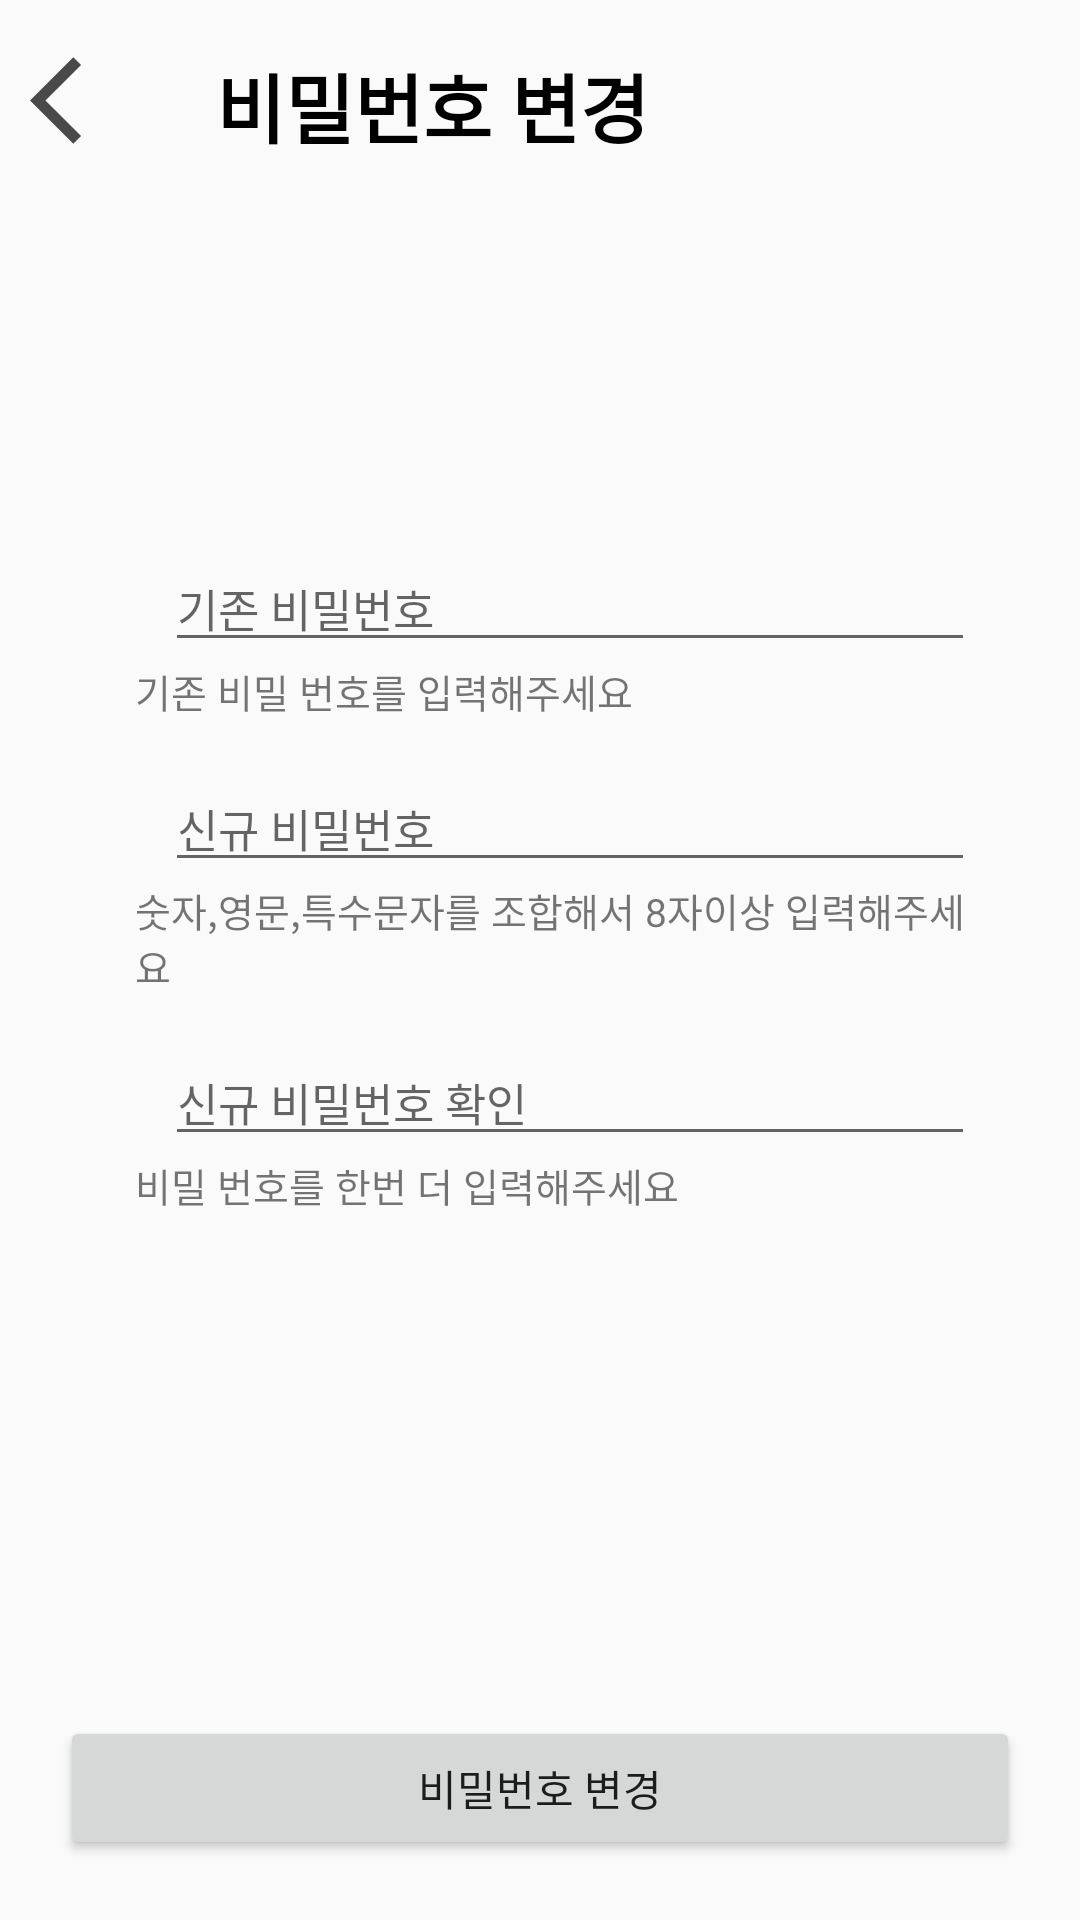

Icons on this 1080px x 1920px Android screen, each with the point to tap as (x,y):
arrow back: (55,100)
